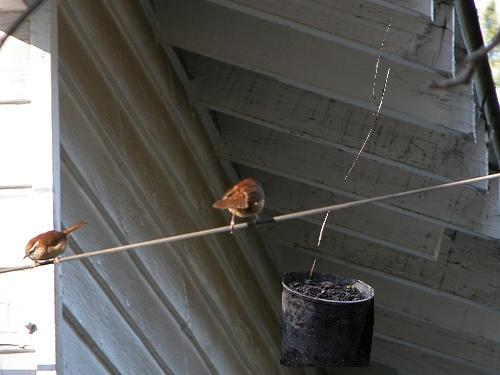tampered: (281, 18, 392, 367)
